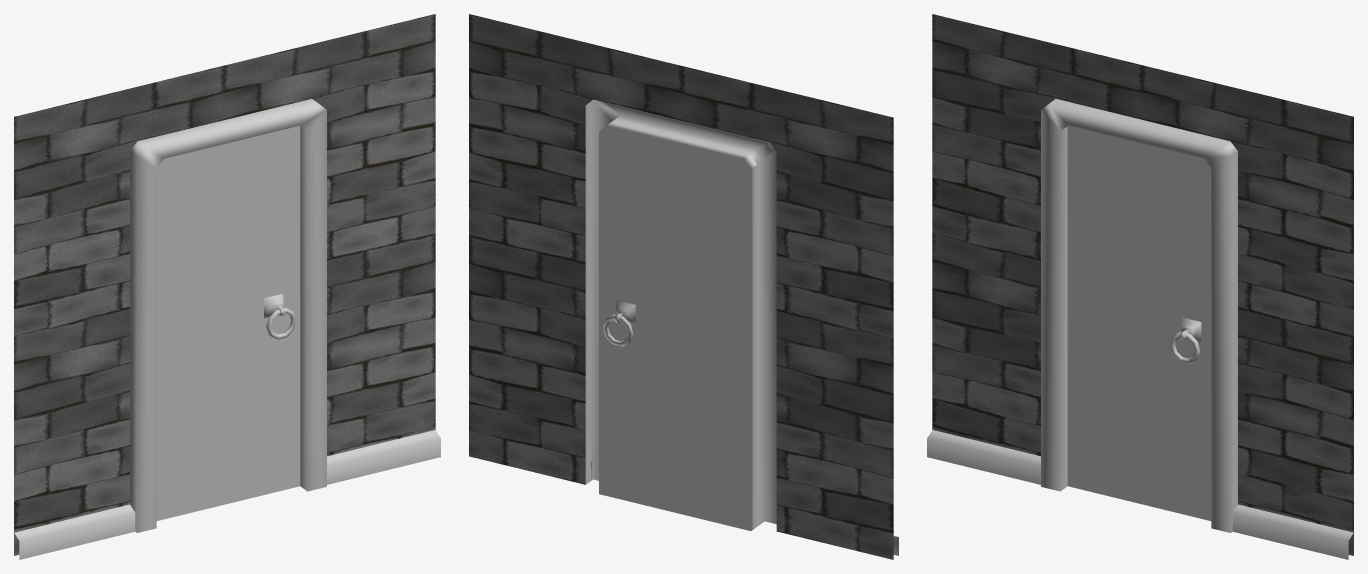
Rendered from GenHouseTrim3Door.fbx.
3 views of the same model, side by side, from view 1: azimuth 30°, elevation 25°; view 2: azimuth 150°, elevation 25°; view 3: azimuth 330°, elevation 25° (orthographic).
Visible parts, largest first — view 1: polySurface10, GenHouse_Trim3Door, GenHouse_Trim3DoorTrim, DoorWall_Trim1; view 2: polySurface10, GenHouse_Trim3Door, GenHouse_Trim3DoorTrim; view 3: polySurface10, GenHouse_Trim3Door, GenHouse_Trim3DoorTrim, DoorWall_Trim1.
Boxes of the visible parts, x1=… form: polySurface10: x1=14, y1=14, x2=435, y2=555; GenHouse_Trim3Door: x1=156, y1=126, x2=300, y2=520; GenHouse_Trim3DoorTrim: x1=130, y1=99, x2=326, y2=532; DoorWall_Trim1: x1=14, y1=430, x2=440, y2=559; polySurface10: x1=469, y1=14, x2=893, y2=559; GenHouse_Trim3Door: x1=599, y1=123, x2=757, y2=530; GenHouse_Trim3DoorTrim: x1=585, y1=99, x2=776, y2=527; polySurface10: x1=932, y1=14, x2=1353, y2=555; GenHouse_Trim3Door: x1=1067, y1=126, x2=1211, y2=520; GenHouse_Trim3DoorTrim: x1=1041, y1=99, x2=1237, y2=532; DoorWall_Trim1: x1=927, y1=430, x2=1353, y2=559.
Bounding box in the file's own units: 5.27 × 5.25 × 0.5524.
